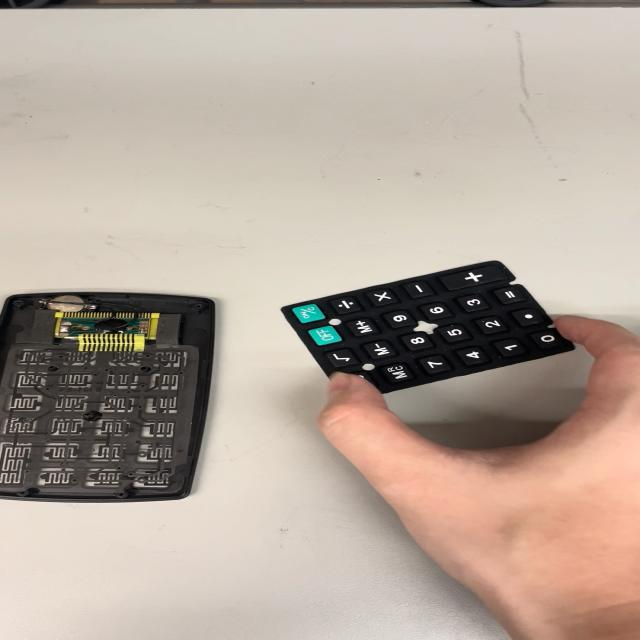front_panel: (0, 287, 231, 511)
number_pad: (270, 263, 569, 405)
